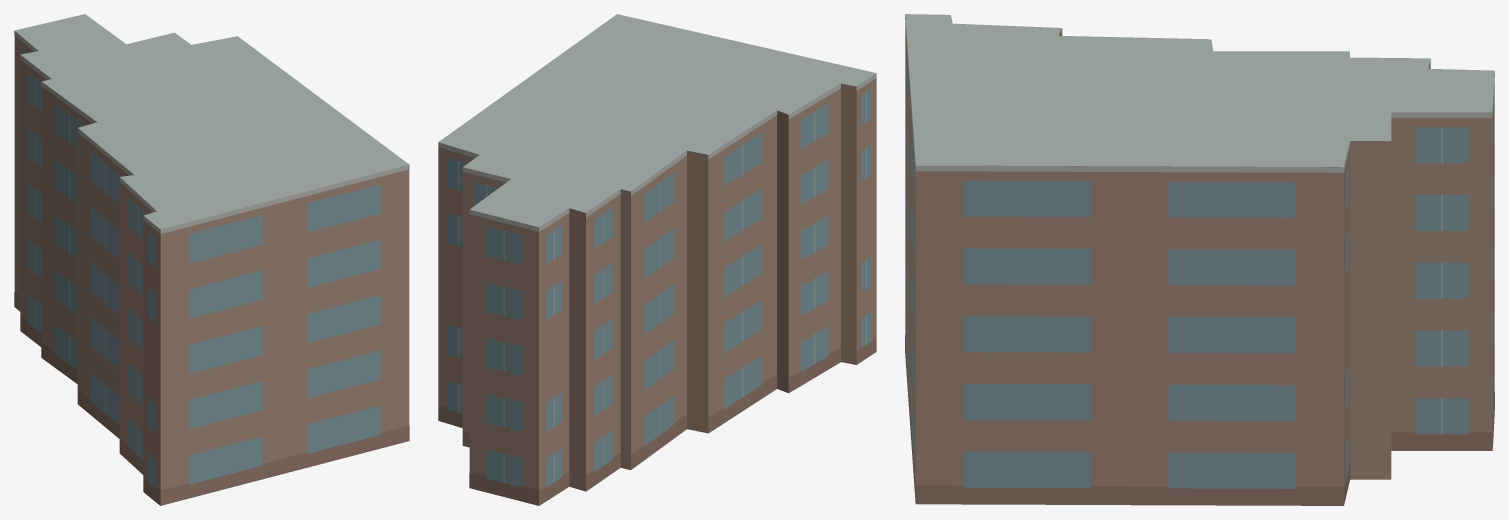
The model's file is survey-upis-32489082.glb.
3 renders of one model, left to right at view 1: azimuth 30°, elevation 25°; view 2: azimuth 150°, elevation 25°; view 3: azimuth 270°, elevation 25°, orthographic. The views are drawn at different scales.
Visible parts, largest first — view 1: survey-upis-32489082.tmp; view 2: survey-upis-32489082.tmp; view 3: survey-upis-32489082.tmp.
Part boxes in pixels (box(x1,y1,x2,y2)): survey-upis-32489082.tmp: box(14, 14, 409, 505); survey-upis-32489082.tmp: box(438, 14, 876, 505); survey-upis-32489082.tmp: box(905, 14, 1494, 505).
Size of the model in its own units: 13.97 by 14.4 by 22.72.
